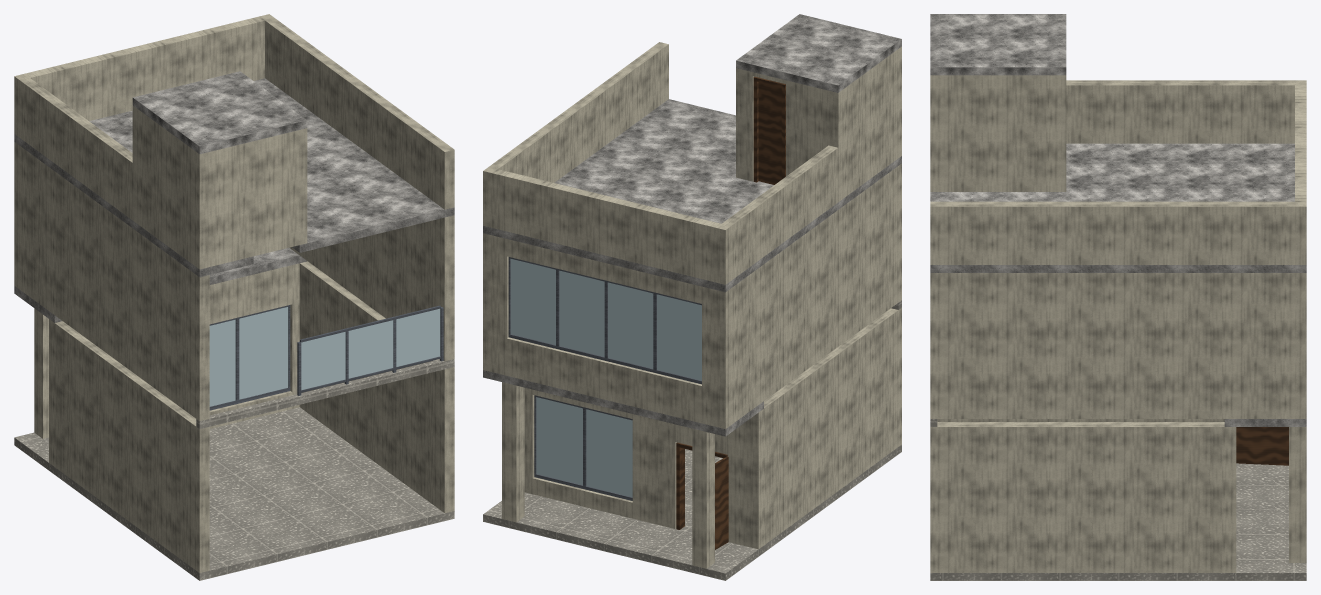
The model's file is rowhouse_front_aged.fbx.
3 renders of one model, left to right at view 1: azimuth 30°, elevation 25°; view 2: azimuth 150°, elevation 25°; view 3: azimuth 270°, elevation 25°, orthographic. The views are drawn at different scales.
Parts seen in each view (by area): view 1: rowhouse_front_aged; view 2: rowhouse_front_aged; view 3: rowhouse_front_aged.
Boxes of the visible parts, <box> form: rowhouse_front_aged: <box>14,14,454,580</box>; rowhouse_front_aged: <box>483,14,901,580</box>; rowhouse_front_aged: <box>930,14,1306,580</box>.
Size of the model in its own units: 510 by 830 by 642.
